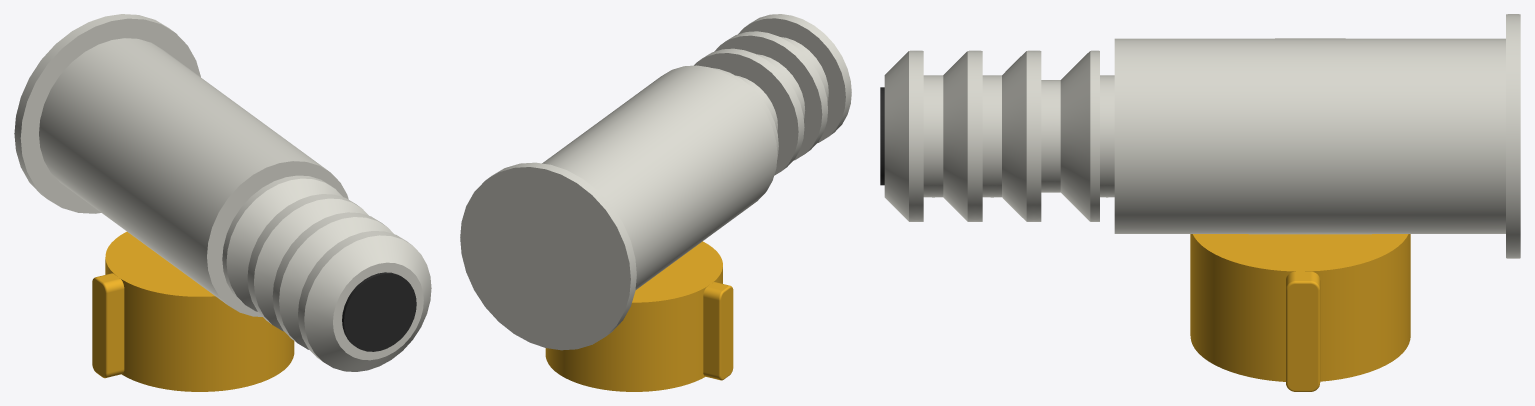
The model's file is Gashane v1.fbx.
The picture shows the model from 3 angles, left to right: view 1: azimuth 30°, elevation 25°; view 2: azimuth 150°, elevation 25°; view 3: azimuth 270°, elevation 25°; orthographic projection. The views are drawn at different scales.
Visible parts, largest first — view 1: Body1, Body3, Body2, Body5; view 2: Body1, Body3, Body5; view 3: Body1, Body3, Body4.
Boxes of the visible parts, x1,y1,x2,y2 form: Body1: [14, 14, 431, 371]; Body3: [105, 231, 294, 391]; Body2: [342, 272, 416, 351]; Body5: [92, 273, 124, 378]; Body1: [460, 14, 851, 350]; Body3: [545, 241, 722, 391]; Body5: [703, 282, 733, 380]; Body1: [884, 14, 1520, 258]; Body3: [1190, 234, 1410, 381]; Body4: [1286, 271, 1320, 391].
Bounding box in the file's own units: 55 × 70 × 131.
